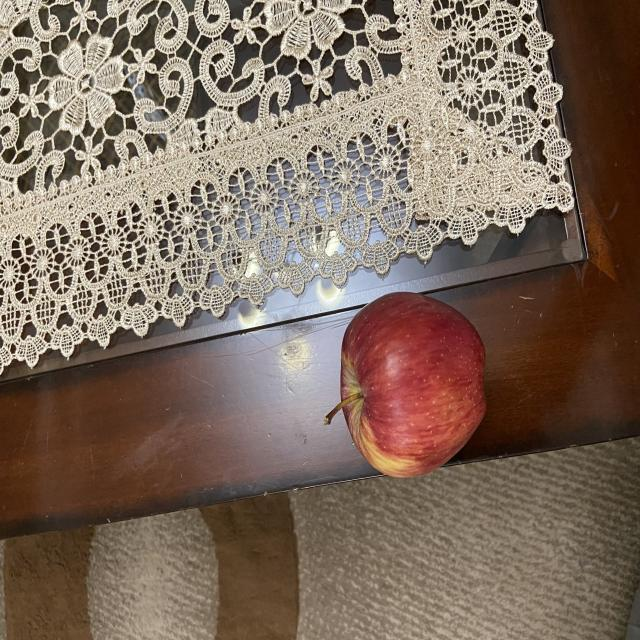apple: (321, 291, 494, 484)
